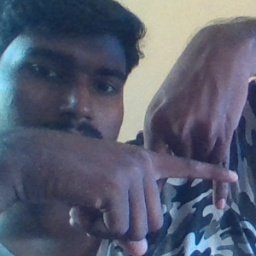H: (133, 103, 240, 227)
